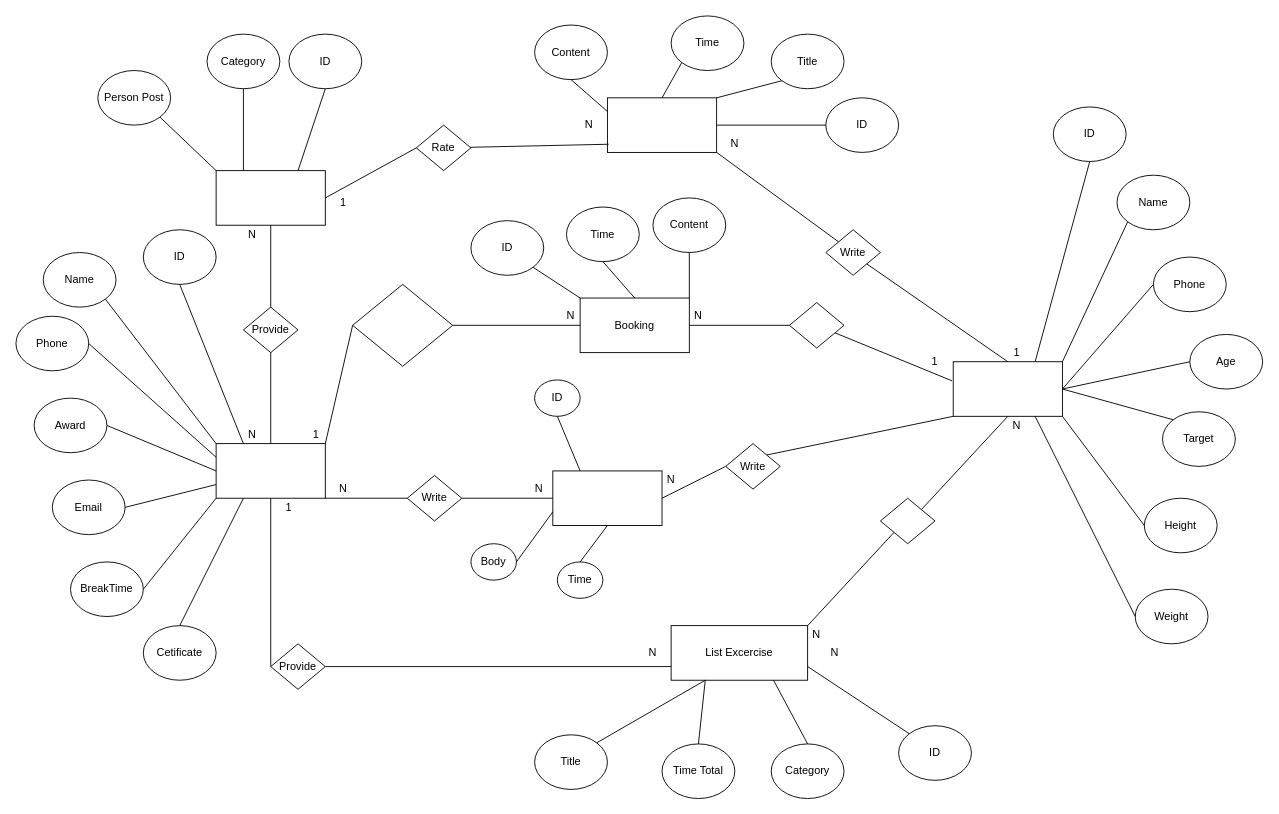
The diagram is 1279 pixels wide and 814 high, and some of its shapes have lost their labels. The centre of each missing label's shape, as x and y in pixels:
"Accept/Unaccept" goes at point 402,324.
"Book" goes at point 816,325.
"Customer" goes at point 1007,388.
"Message" goes at point 607,498.
"Review" goes at point 662,124.
"Service" goes at point 270,197.
"Study" goes at point 907,520.
"Trainer" goes at point 270,470.
